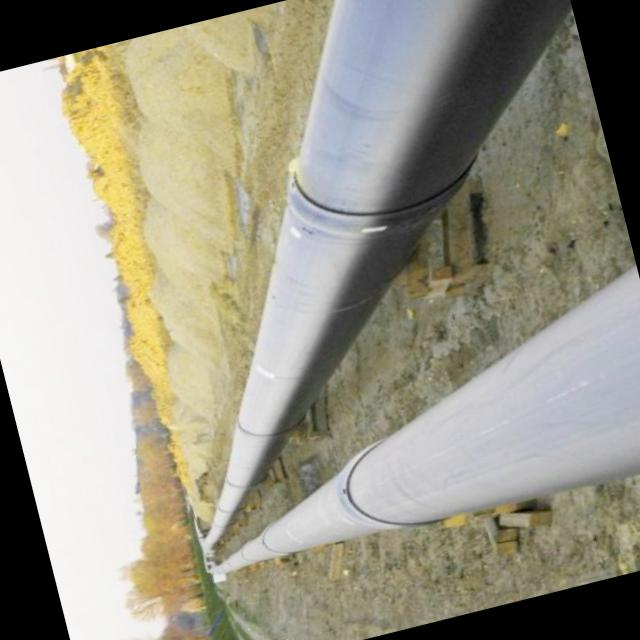gas: (204, 0, 571, 548), (213, 266, 640, 572)
